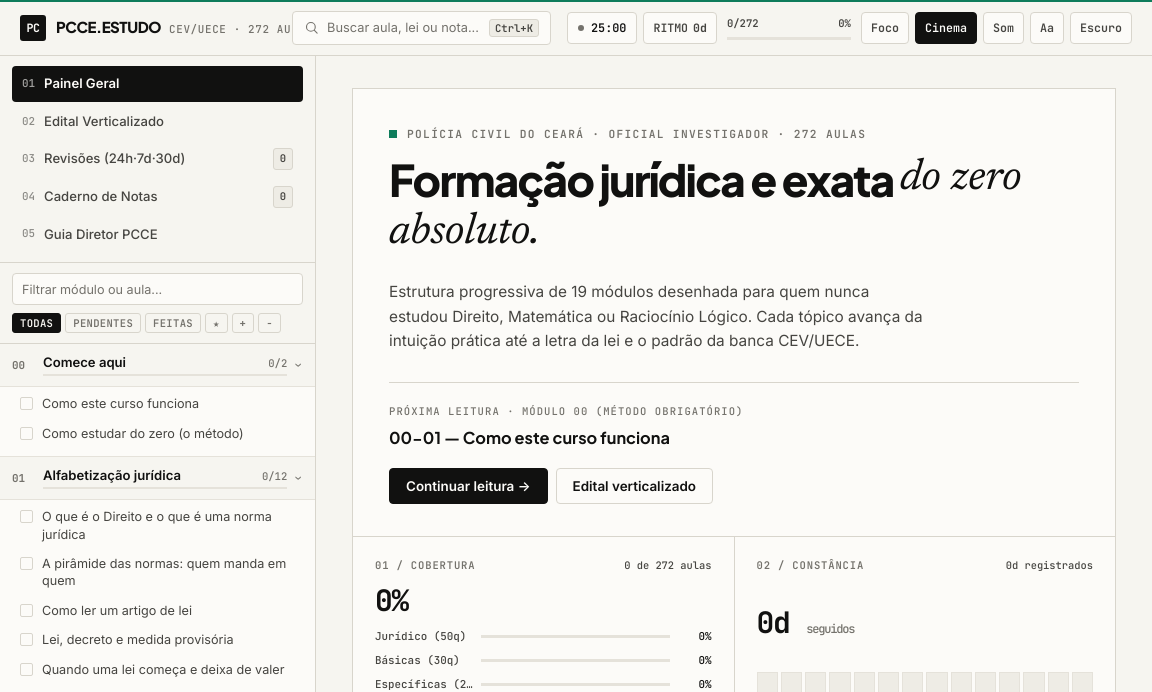
Test case: Telas de estudo › filtra a barra lateral e mostra estado vazio
The image size is (1152, 692).
In the search field labelled "Filtrar módulo ou aula": coordinates (158, 289) [12,273,303,305], type "texto-inexistente"
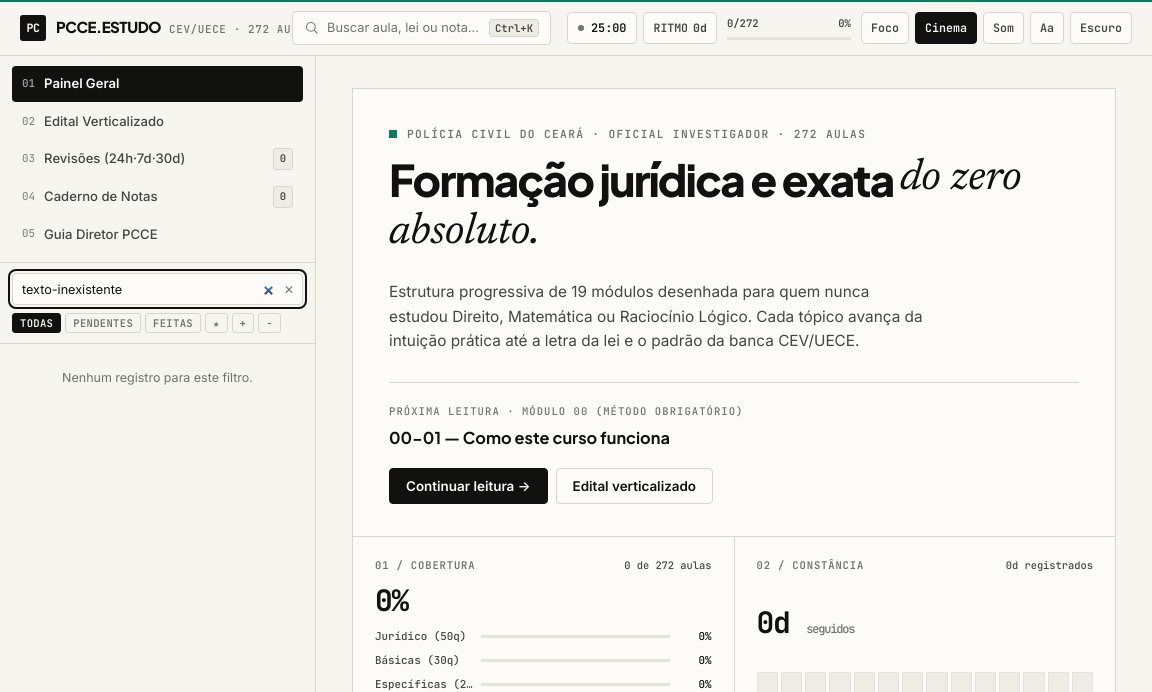
Result: the text "Nenhum registro para este filtro." is shown at [62,370,253,385]
Click the button named "Limpar filtro": coordinates (289, 289) [280,278,298,301]
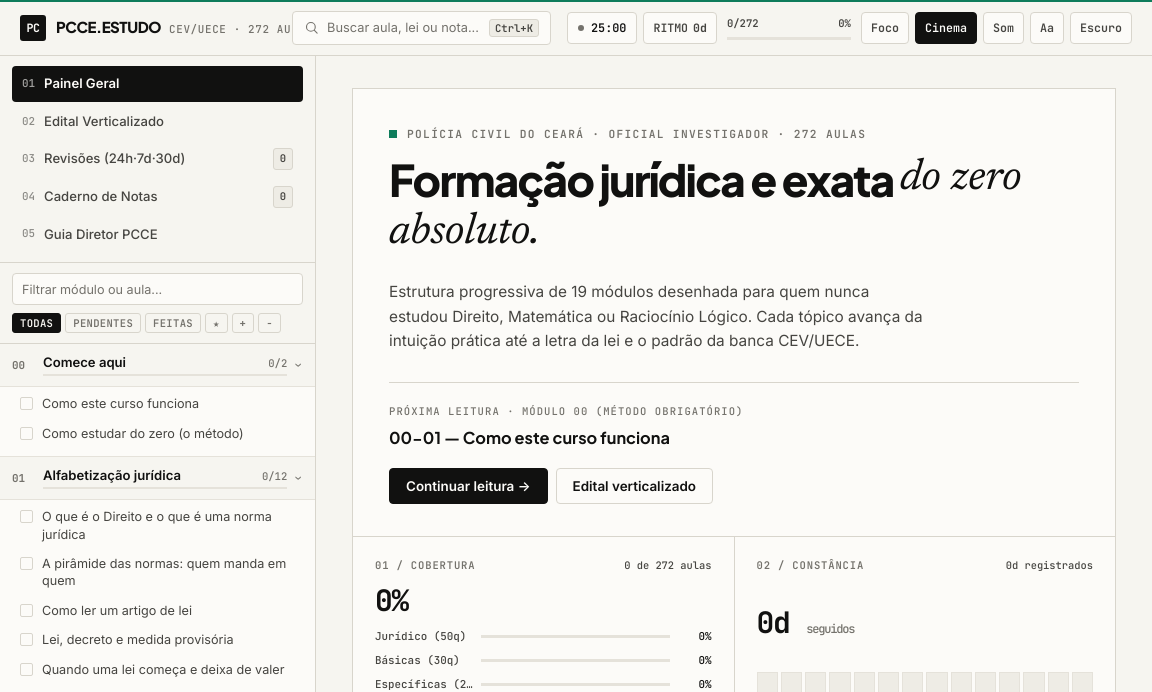
Result: the text "Nenhum registro para este filtro." is gone
